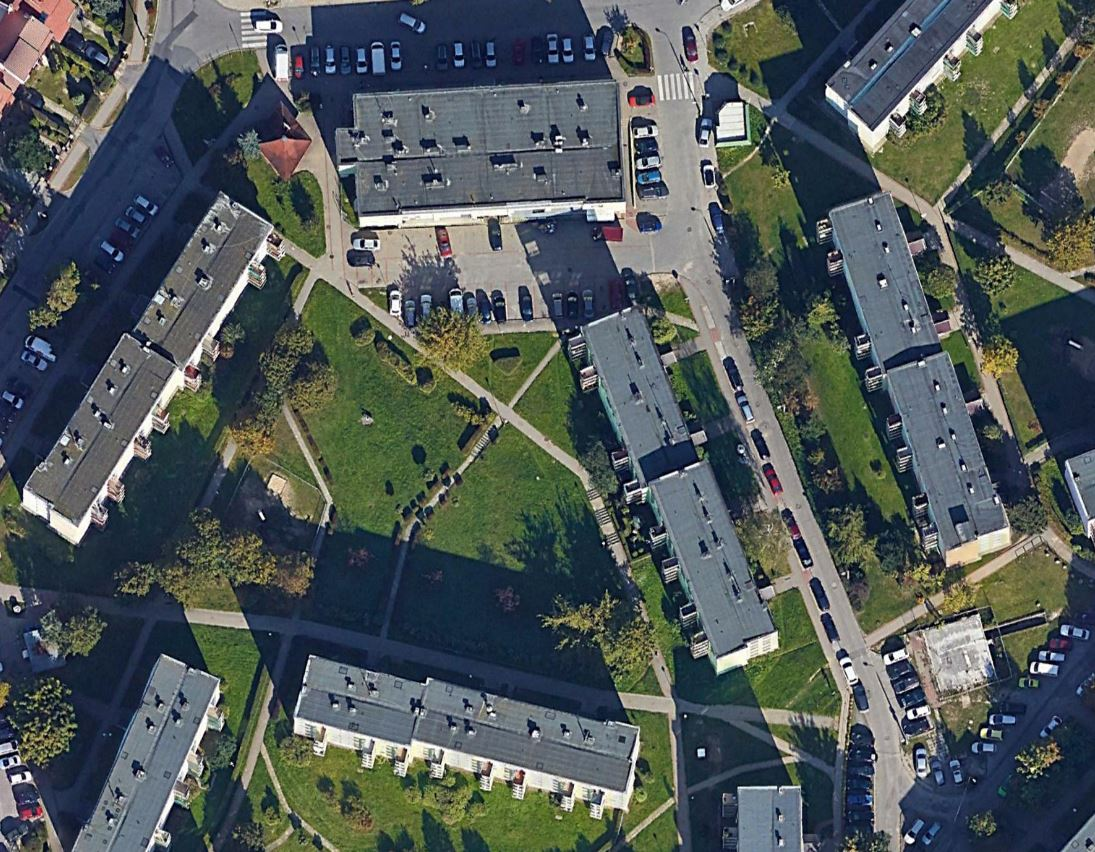block of flats: (17, 179, 282, 548), (555, 295, 797, 677), (799, 182, 1024, 581), (291, 647, 646, 822), (325, 59, 649, 238), (57, 649, 233, 852), (805, 1, 1025, 162), (714, 763, 817, 852)
